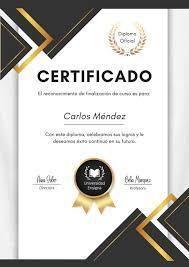firma: (119, 171, 156, 195), (23, 171, 61, 193)
nombre: (57, 104, 135, 128)
